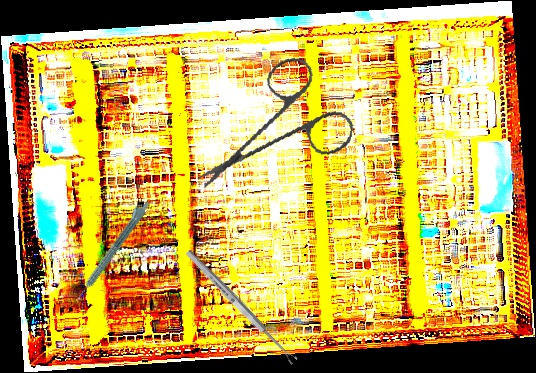Handpiece: (71, 197, 151, 302)
Iris Scissors: (196, 44, 364, 212)
Surgical Spoon: (183, 248, 299, 366)
